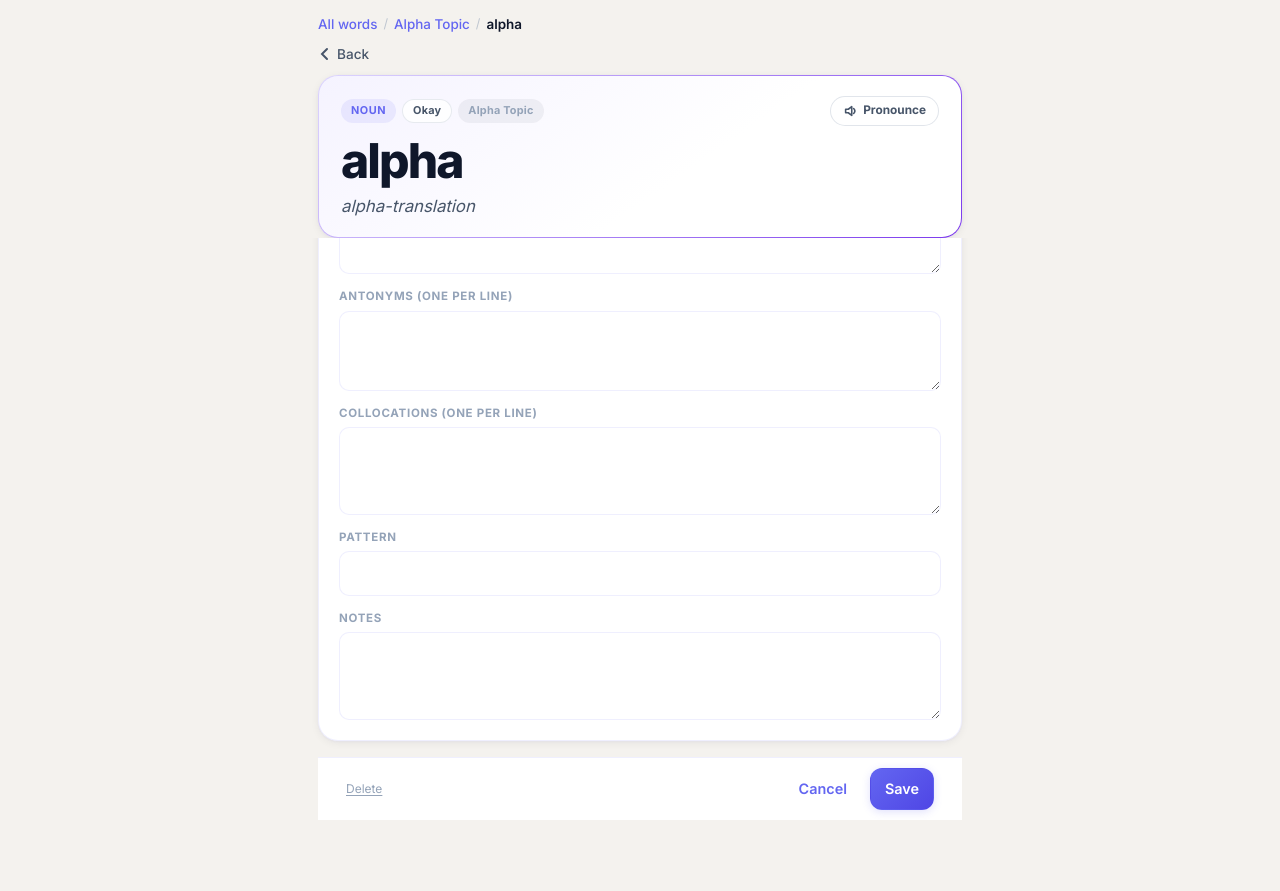
Test: WordPage — cache invalidation after delete › shows a failed deletion and keeps the word on the edit screen
The width and height of the screenshot is (1280, 891).
(page scrolled)
Step 1. Click the button "Delete" → (364, 789), box [346,780,382,798]
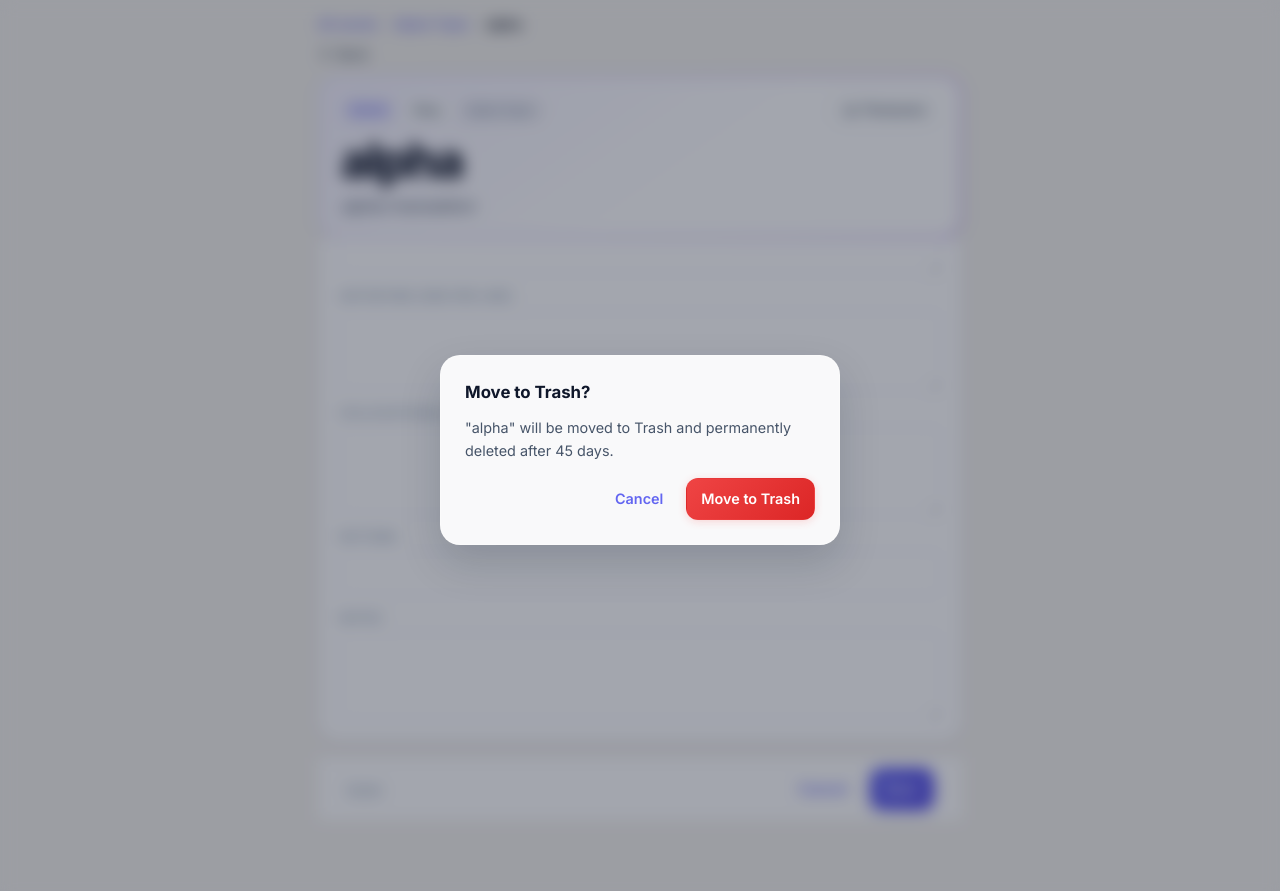
Step 2. Click the button "Move to Trash" → (751, 499), box [686,478,815,520]
(page scrolled)
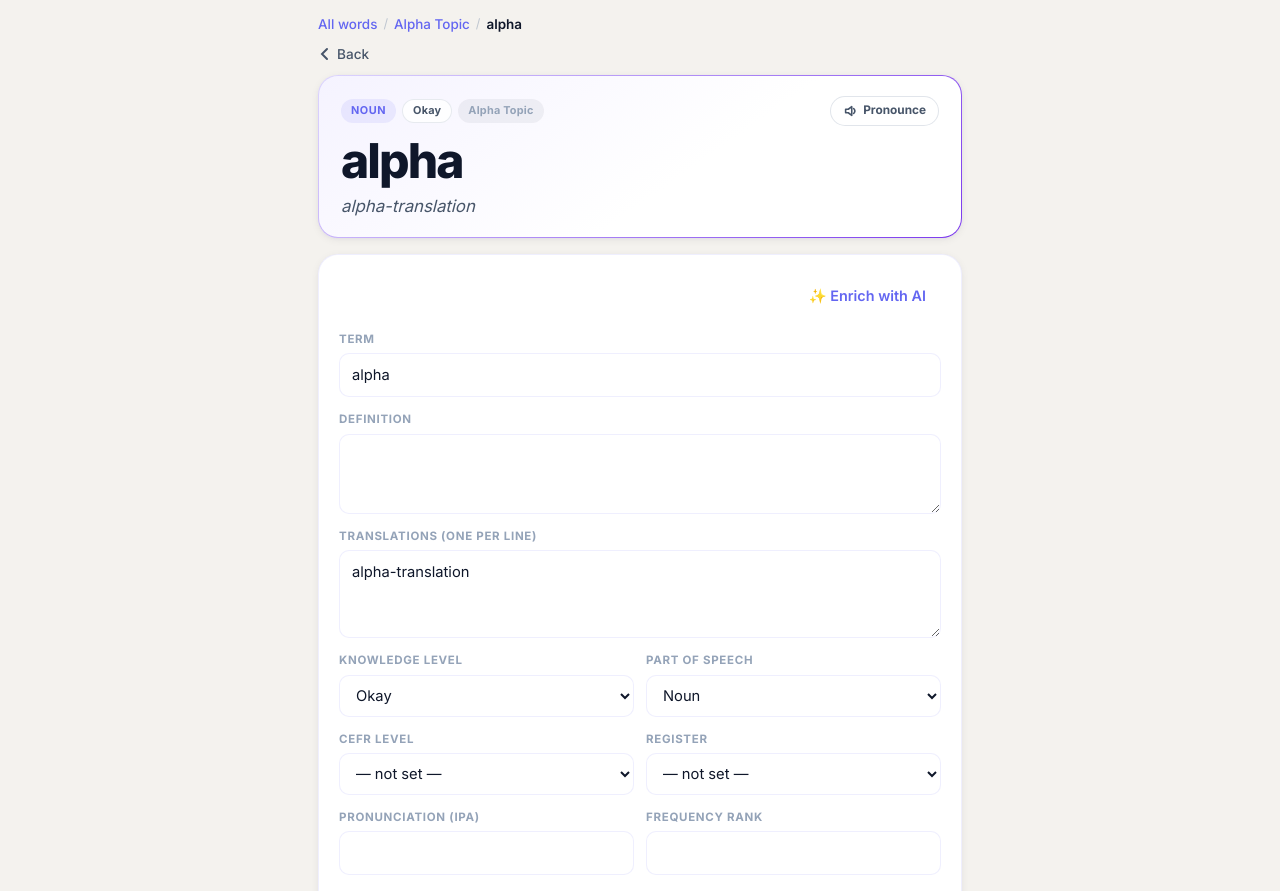
Now the field showing "alpha" is shown, box [339,353,941,398]
